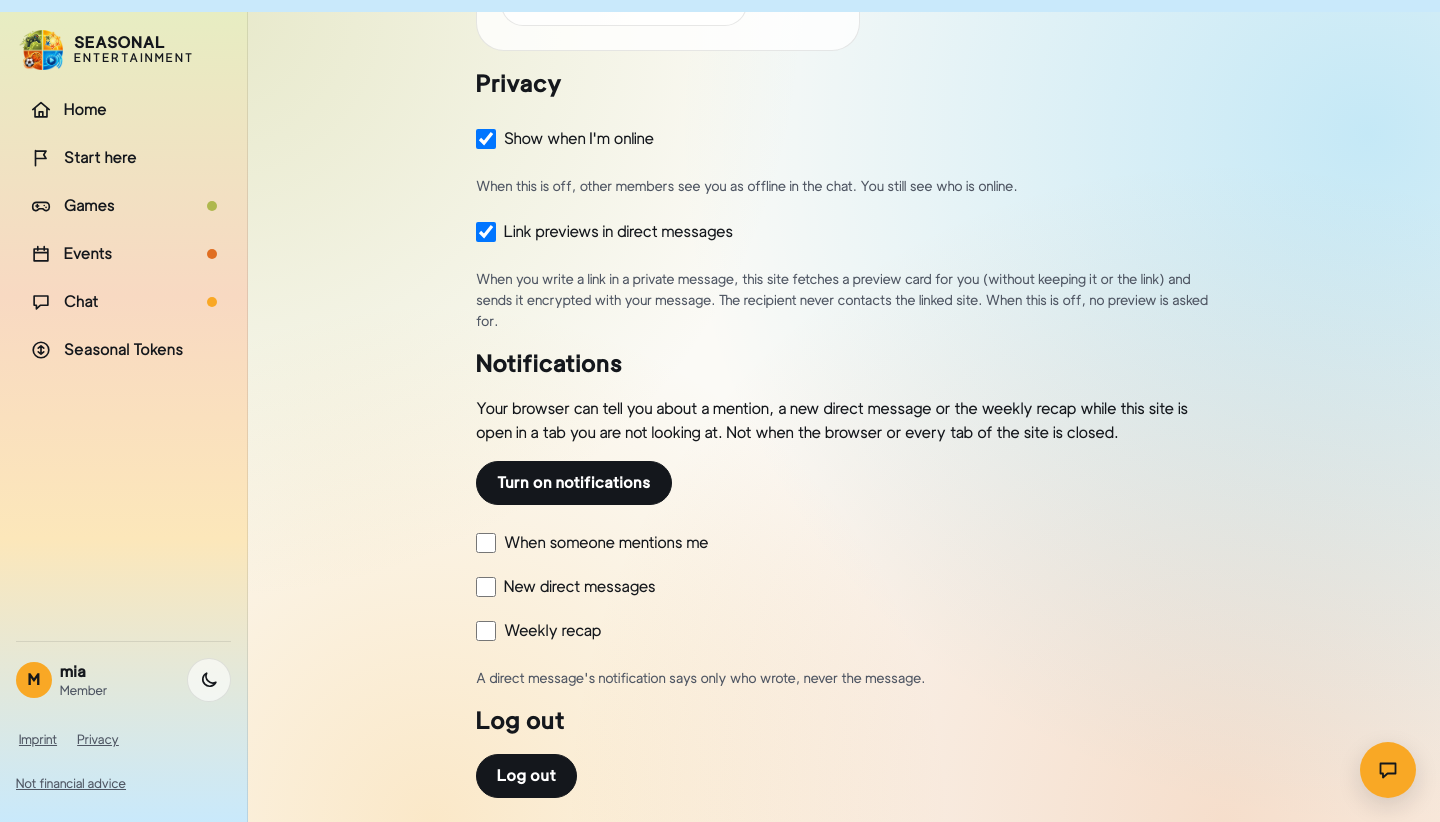
permission › is never asked on page load; "Turn on notifications" asks and turns both on
This screenshot has width=1440, height=822.
(page scrolled)
Expected: the heading "Notifications" is shown, [476,349,622,378]
Click the button "Turn on notifications". click: click(574, 483)
box: [476,461,672,505]
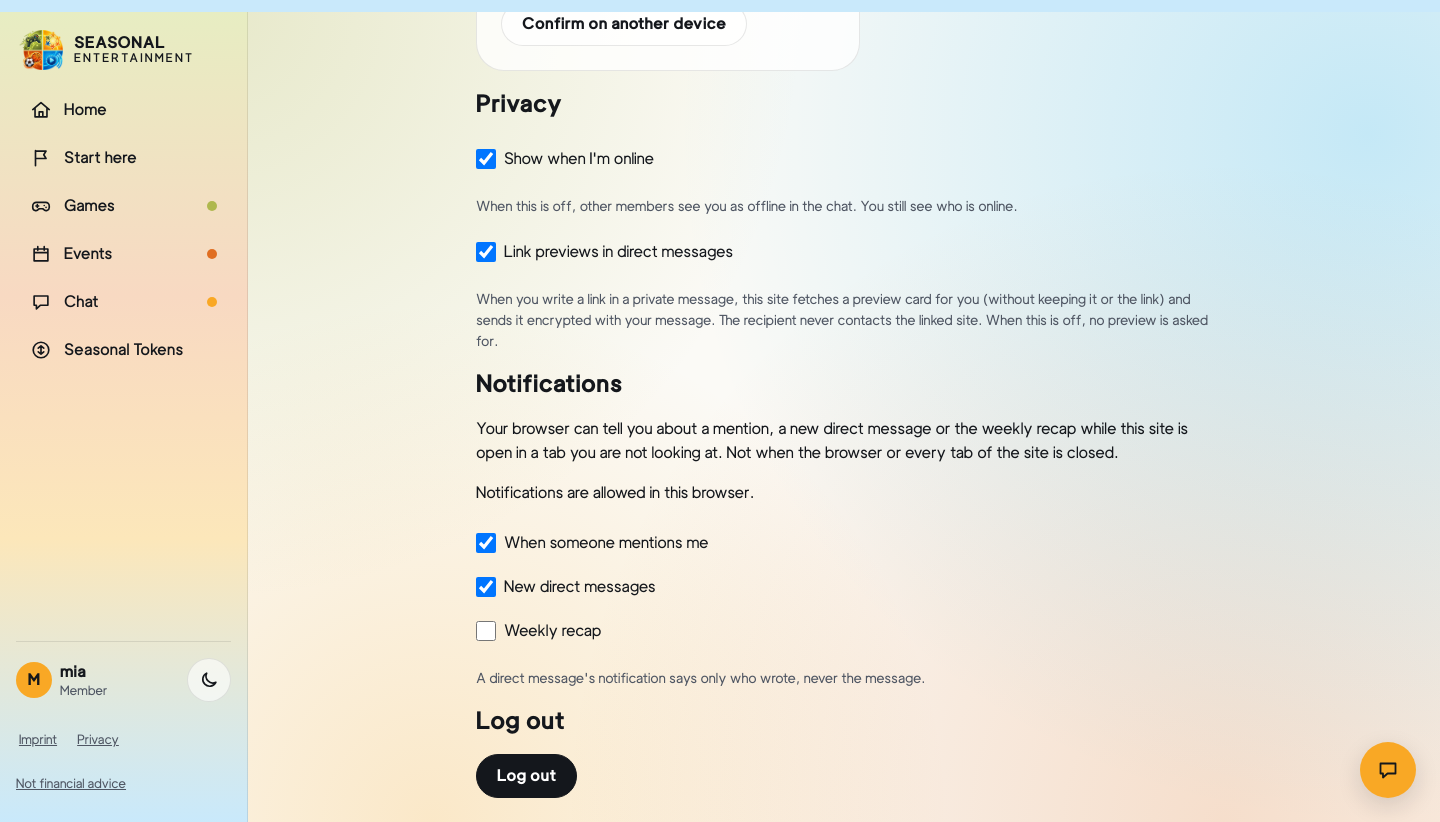
Expected: the switch labelled "When someone mentions me" is checked, [476,533,496,553]
